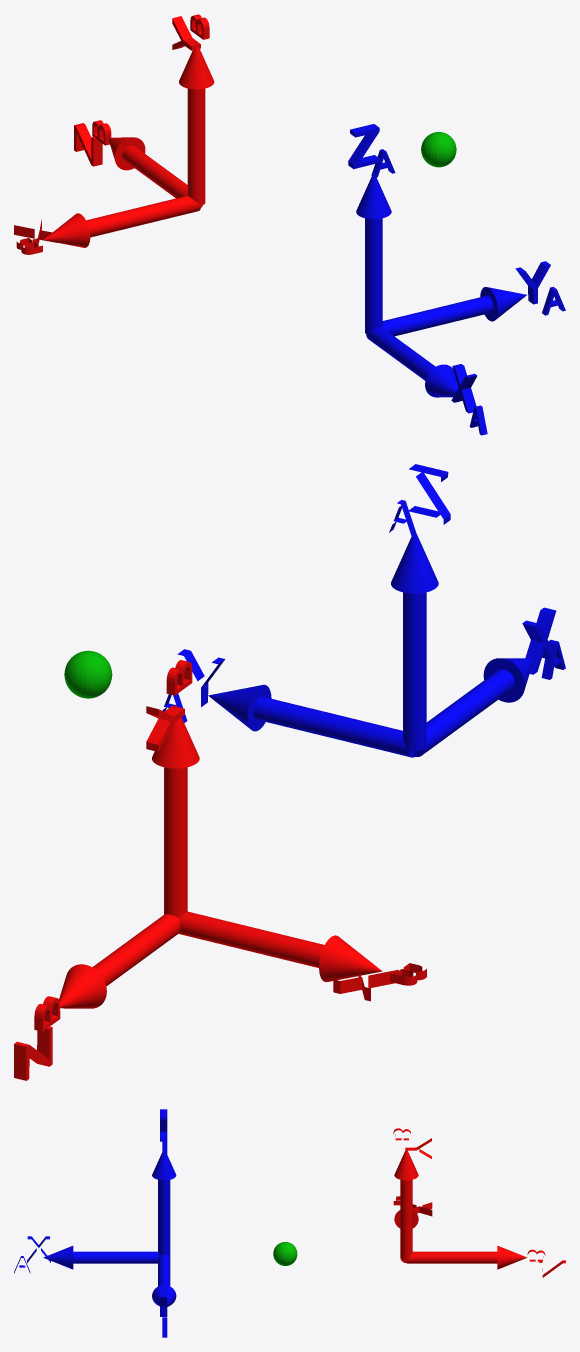
Rendered from fig3_1a.gltf.
3 views of the same model, one above another, from view 1: azimuth 30°, elevation 25°; view 2: azimuth 150°, elevation 25°; view 3: azimuth 270°, elevation 25° (orthographic). The views are drawn at different scales.
Parts seen in each view (by area): view 1: Renderer Node; view 2: Renderer Node; view 3: Renderer Node.
Part boxes in pixels (x1,y1,x2,y2): Renderer Node: (14, 14, 565, 435); Renderer Node: (14, 464, 565, 1080); Renderer Node: (14, 1109, 565, 1337).
Bounding box in the file's own units: 2.41 × 1.5 × 4.56.
